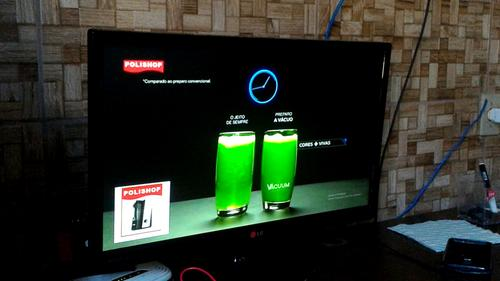Polishop #1: (112, 179, 169, 243)
